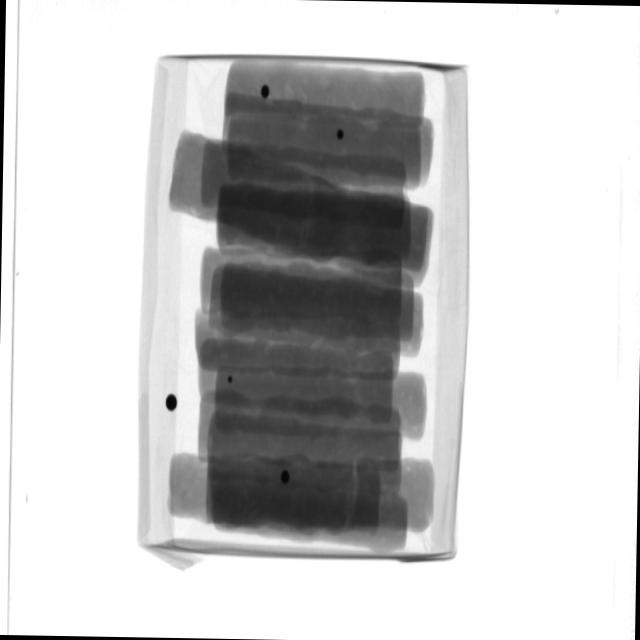ym: (165, 393, 179, 413), (261, 86, 270, 100), (282, 469, 291, 482), (338, 131, 346, 141), (227, 377, 234, 385)
